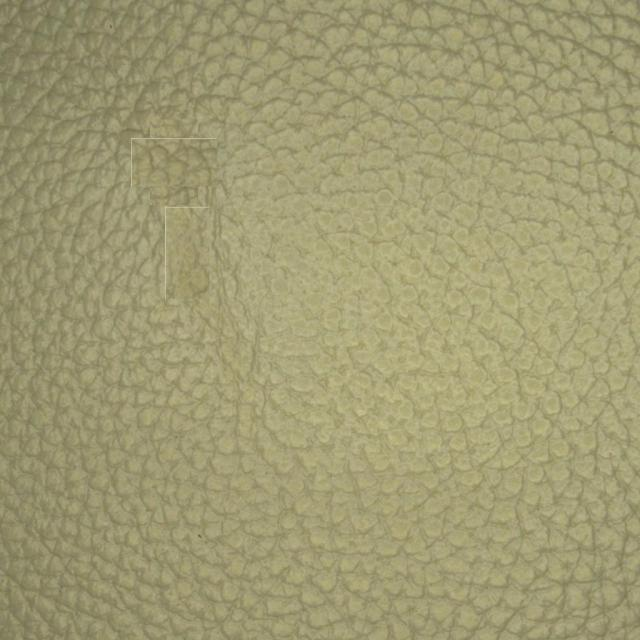Healed Injury: (114, 181, 260, 331), (90, 48, 246, 185)
